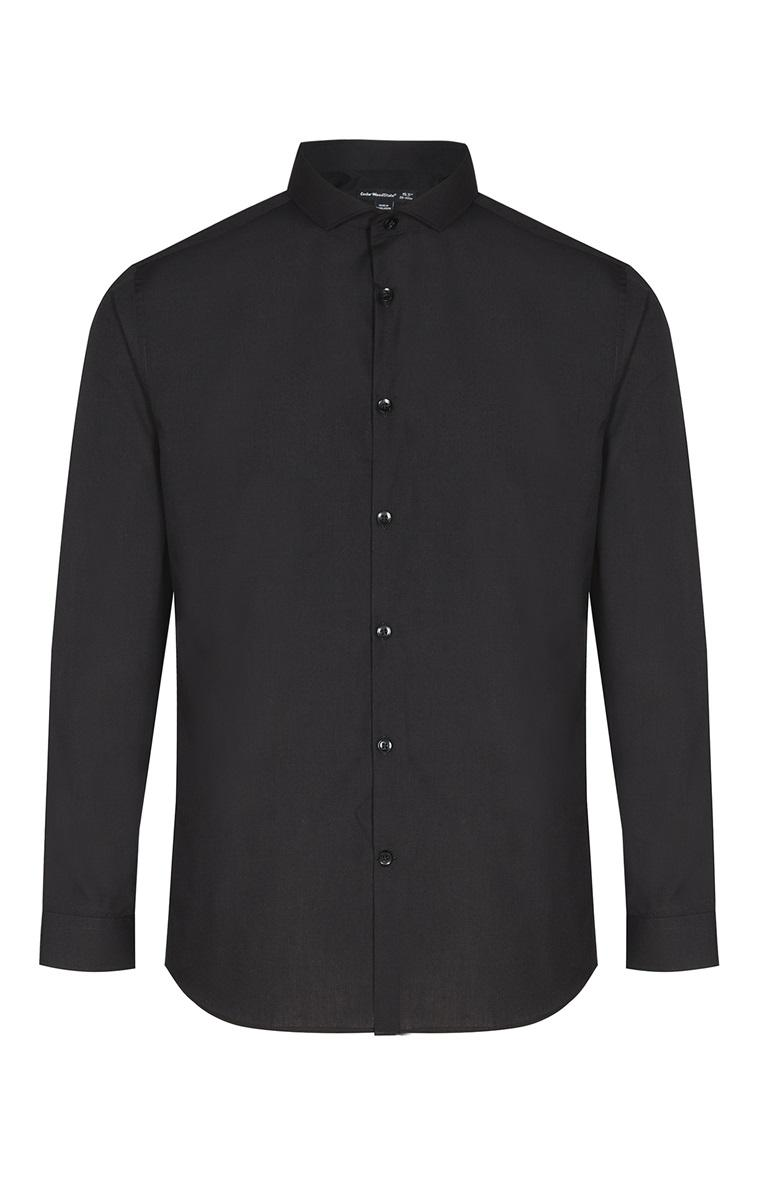teeshirt: (34, 133, 736, 1054)
